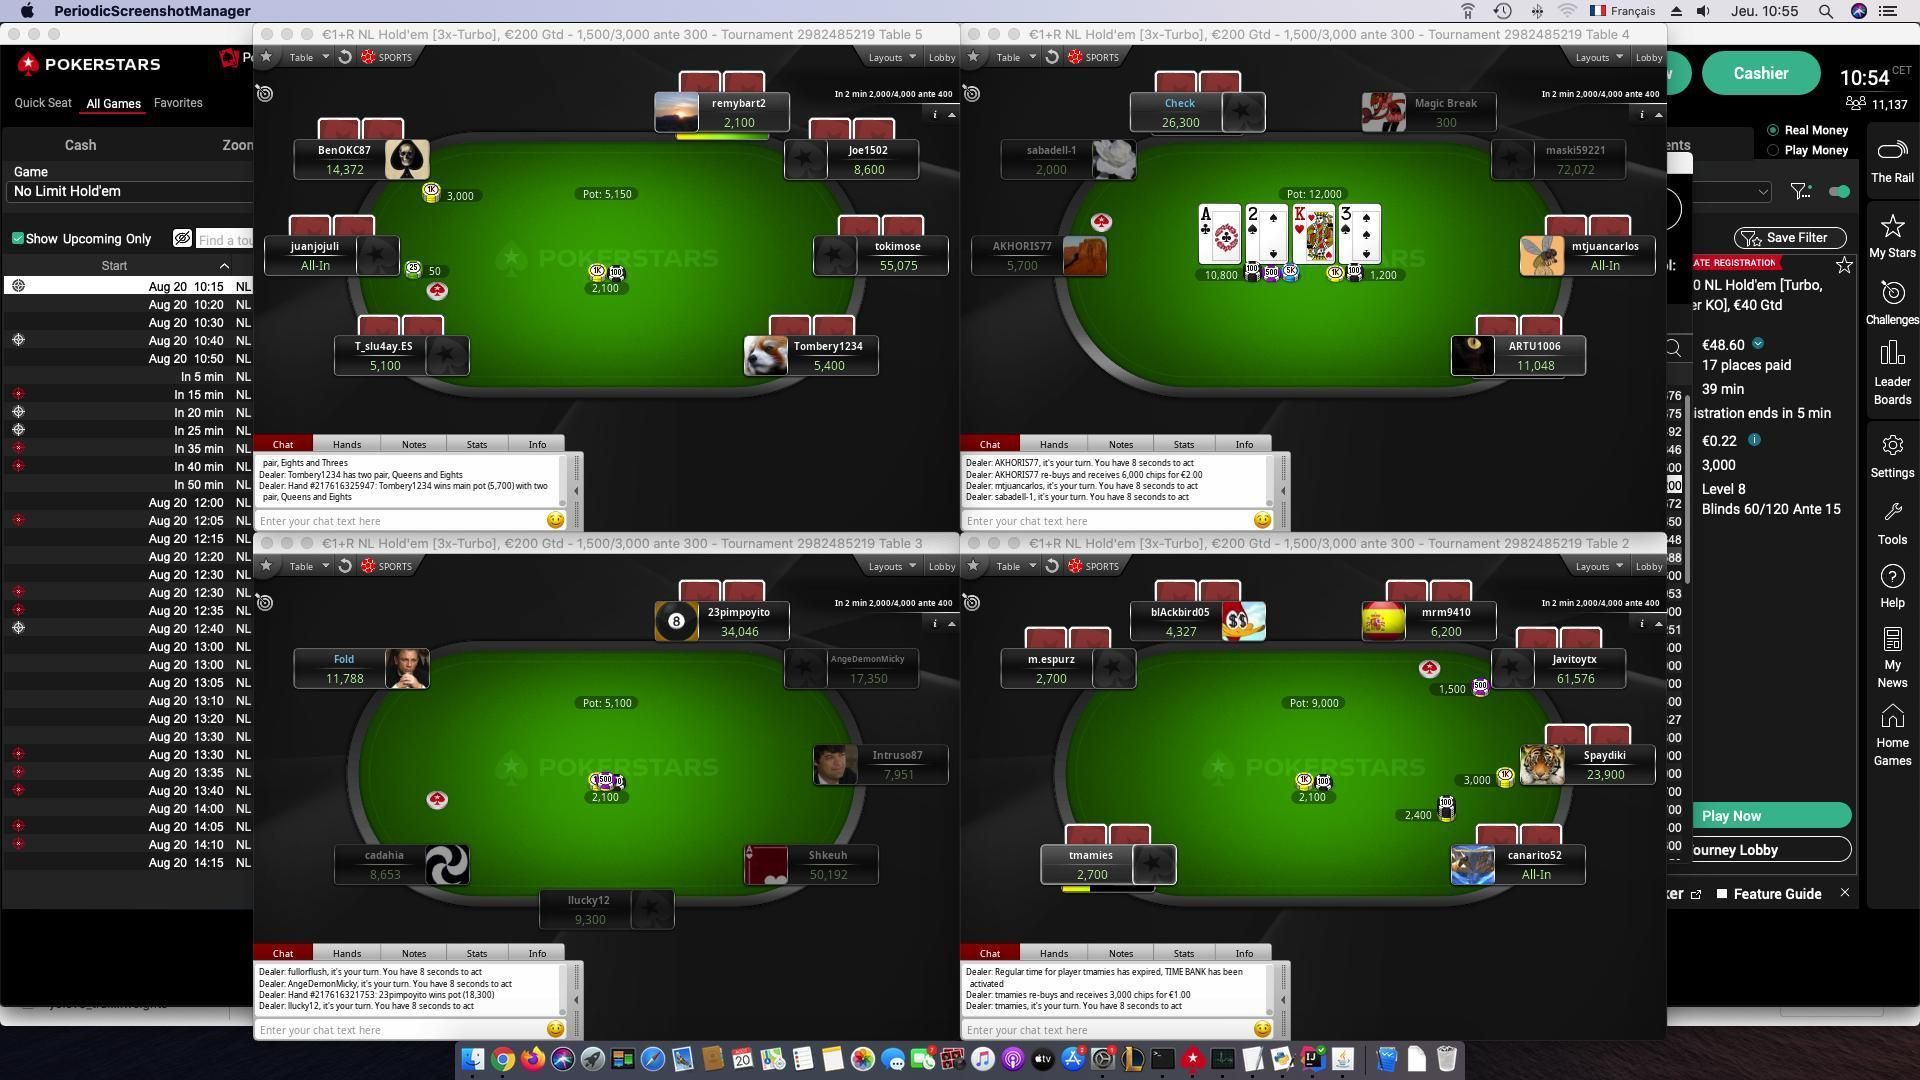2S: (1242, 202, 1265, 241)
3S: (1338, 202, 1356, 236)
AC: (1199, 202, 1216, 241)
KH: (1292, 203, 1308, 236)
